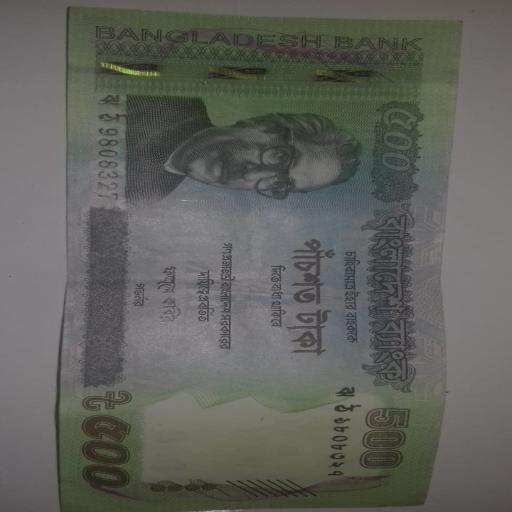500taka: (62, 7, 470, 512)
